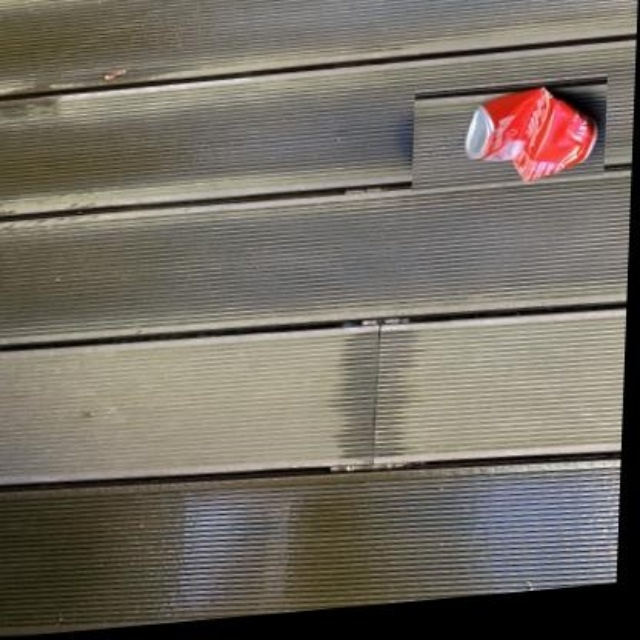trash: (465, 88, 595, 180)
